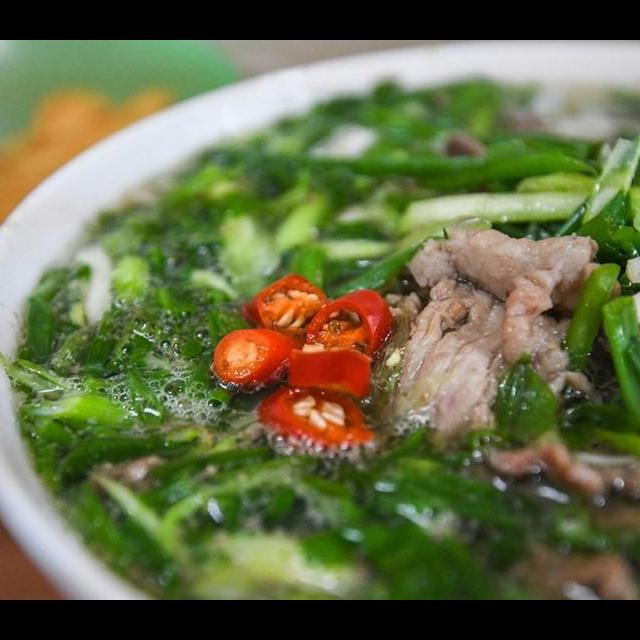thit bo: (365, 207, 605, 467)
